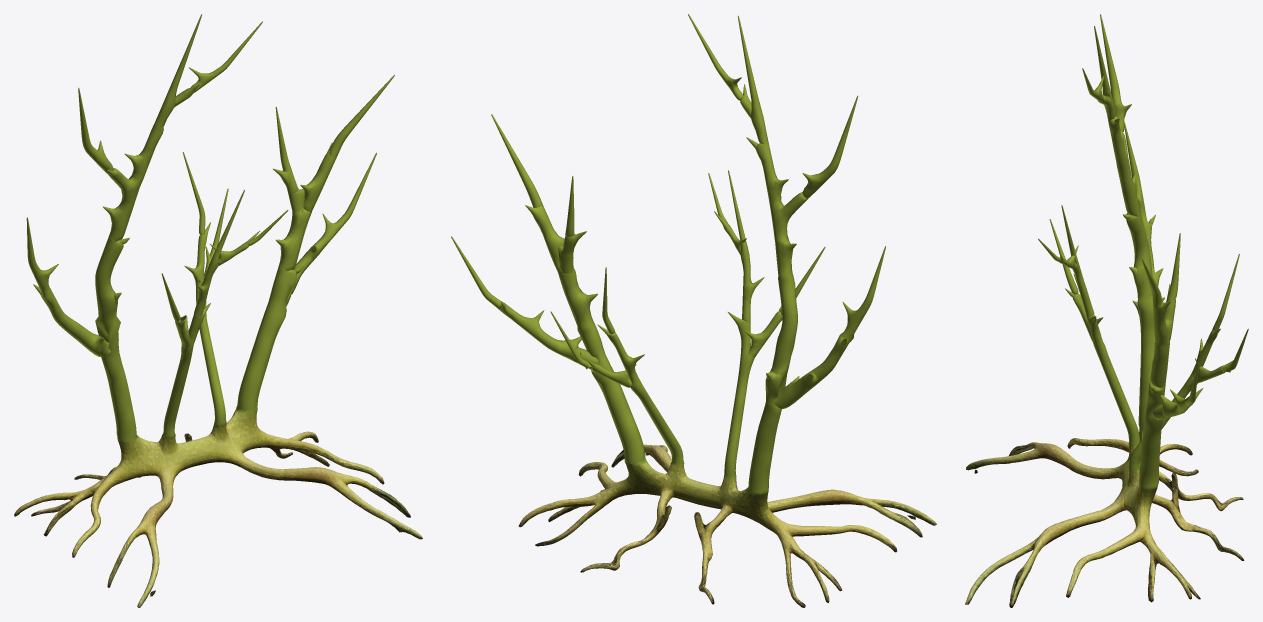
3 views of the same model, side by side, from view 1: azimuth 30°, elevation 25°; view 2: azimuth 150°, elevation 25°; view 3: azimuth 270°, elevation 25° (orthographic). The views are drawn at different scales.
Visible parts, largest first — view 1: protected_roots_plus_whole_artistic_shoot_tree; view 2: protected_roots_plus_whole_artistic_shoot_tree; view 3: protected_roots_plus_whole_artistic_shoot_tree.
Boxes of the visible parts, x1,y1,x2,y2 form: protected_roots_plus_whole_artistic_shoot_tree: (14,14,422,607); protected_roots_plus_whole_artistic_shoot_tree: (451,14,936,607); protected_roots_plus_whole_artistic_shoot_tree: (965,14,1248,607).
Size of the model in its own units: 0.2362 by 0.3 by 0.1526.
Materials: 2 (2 with a texture image).
